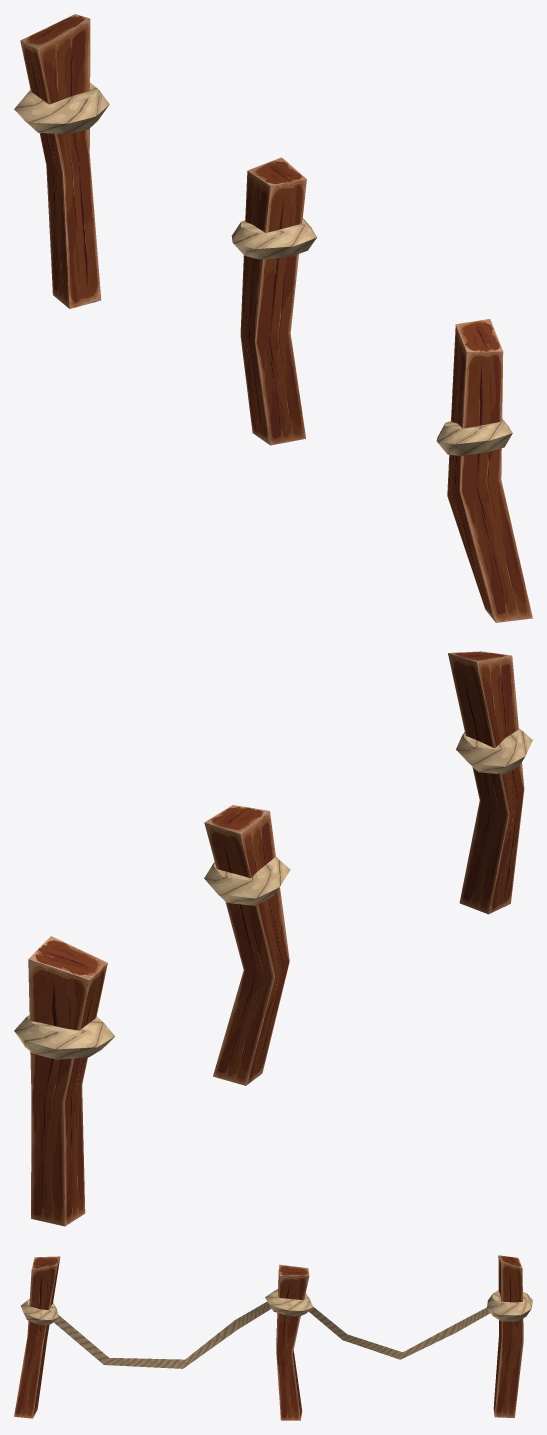
File: barriere-ficelle-triple-2.glb
3 views of the same model, one above another, from view 1: azimuth 30°, elevation 25°; view 2: azimuth 150°, elevation 25°; view 3: azimuth 270°, elevation 25° (orthographic). The views are drawn at different scales.
Visible parts, largest first — view 1: SM_PROP_railing_v02_02; view 2: SM_PROP_railing_v02_02; view 3: SM_PROP_railing_v02_02.
Boxes of the visible parts, <box> form: SM_PROP_railing_v02_02: <box>14,14,532,622</box>; SM_PROP_railing_v02_02: <box>14,651,532,1226</box>; SM_PROP_railing_v02_02: <box>14,1255,532,1420</box>.
Size of the model in its own units: 0.3698 by 1.04 by 3.15.
2 materials, 2 textured.
